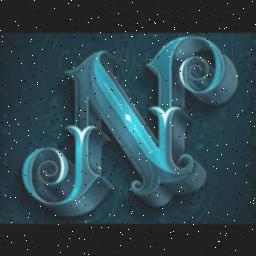n: (49, 33, 231, 207)
